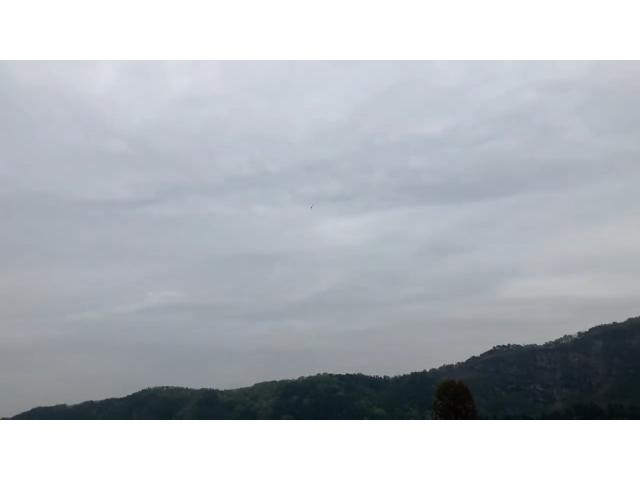Anti-Drone: (303, 200, 317, 214)
